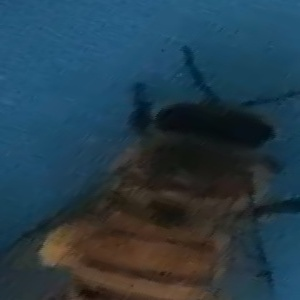bee: (12, 45, 300, 300)
